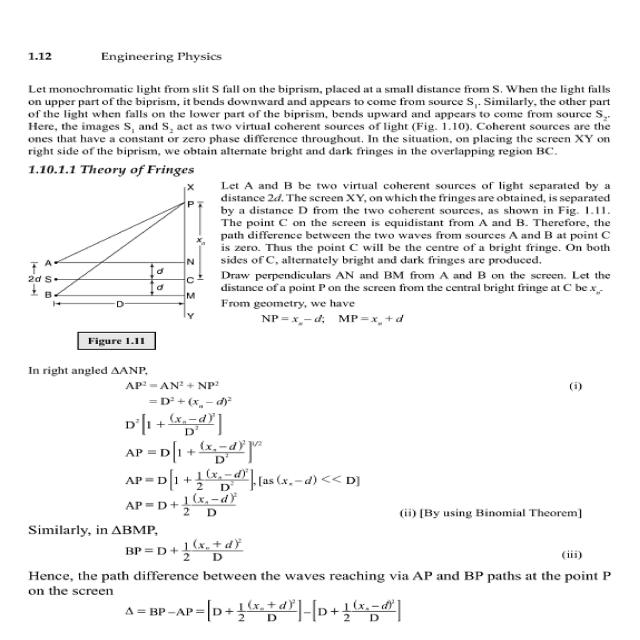diagram: (25, 183, 214, 359)
